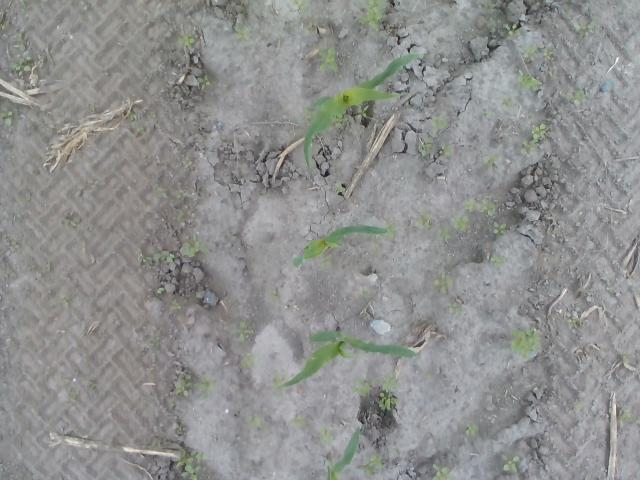Maize: (302, 52, 417, 168), (277, 324, 418, 390), (290, 224, 388, 272), (322, 424, 362, 480)
Weeds: (418, 110, 452, 160), (498, 326, 542, 359), (170, 448, 209, 480), (355, 0, 386, 33), (519, 121, 548, 156), (462, 194, 498, 221), (134, 248, 177, 270), (377, 374, 402, 410), (178, 232, 212, 258), (312, 43, 341, 72), (228, 318, 257, 344), (429, 270, 456, 296), (359, 454, 384, 479), (522, 45, 556, 62), (6, 56, 32, 78), (174, 370, 194, 398), (498, 452, 520, 475), (155, 186, 185, 202), (516, 72, 540, 92), (482, 151, 503, 171), (564, 87, 588, 104), (350, 378, 370, 398), (501, 20, 523, 38), (452, 214, 472, 232), (196, 375, 216, 393), (416, 209, 434, 229), (287, 0, 310, 15), (618, 409, 636, 428), (574, 16, 594, 33), (239, 351, 260, 367), (232, 26, 252, 42), (0, 106, 14, 128), (176, 33, 197, 47), (247, 414, 264, 431), (432, 463, 449, 480), (318, 424, 334, 442), (479, 0, 498, 15), (64, 213, 80, 230), (490, 220, 507, 236), (486, 253, 504, 268), (434, 227, 452, 242), (143, 334, 161, 349), (14, 30, 26, 52), (144, 436, 162, 450), (318, 255, 334, 270), (446, 302, 462, 316), (180, 152, 194, 168), (292, 414, 306, 430), (197, 73, 210, 90), (266, 286, 281, 300), (56, 296, 70, 310), (464, 423, 478, 437), (168, 297, 181, 312), (565, 311, 577, 326), (4, 240, 19, 252), (500, 96, 512, 110), (274, 374, 284, 390), (137, 126, 148, 139), (176, 425, 188, 436), (574, 403, 586, 413), (152, 286, 166, 294), (358, 286, 368, 296), (128, 110, 138, 120), (88, 383, 98, 393), (168, 399, 176, 408), (0, 22, 6, 32)
